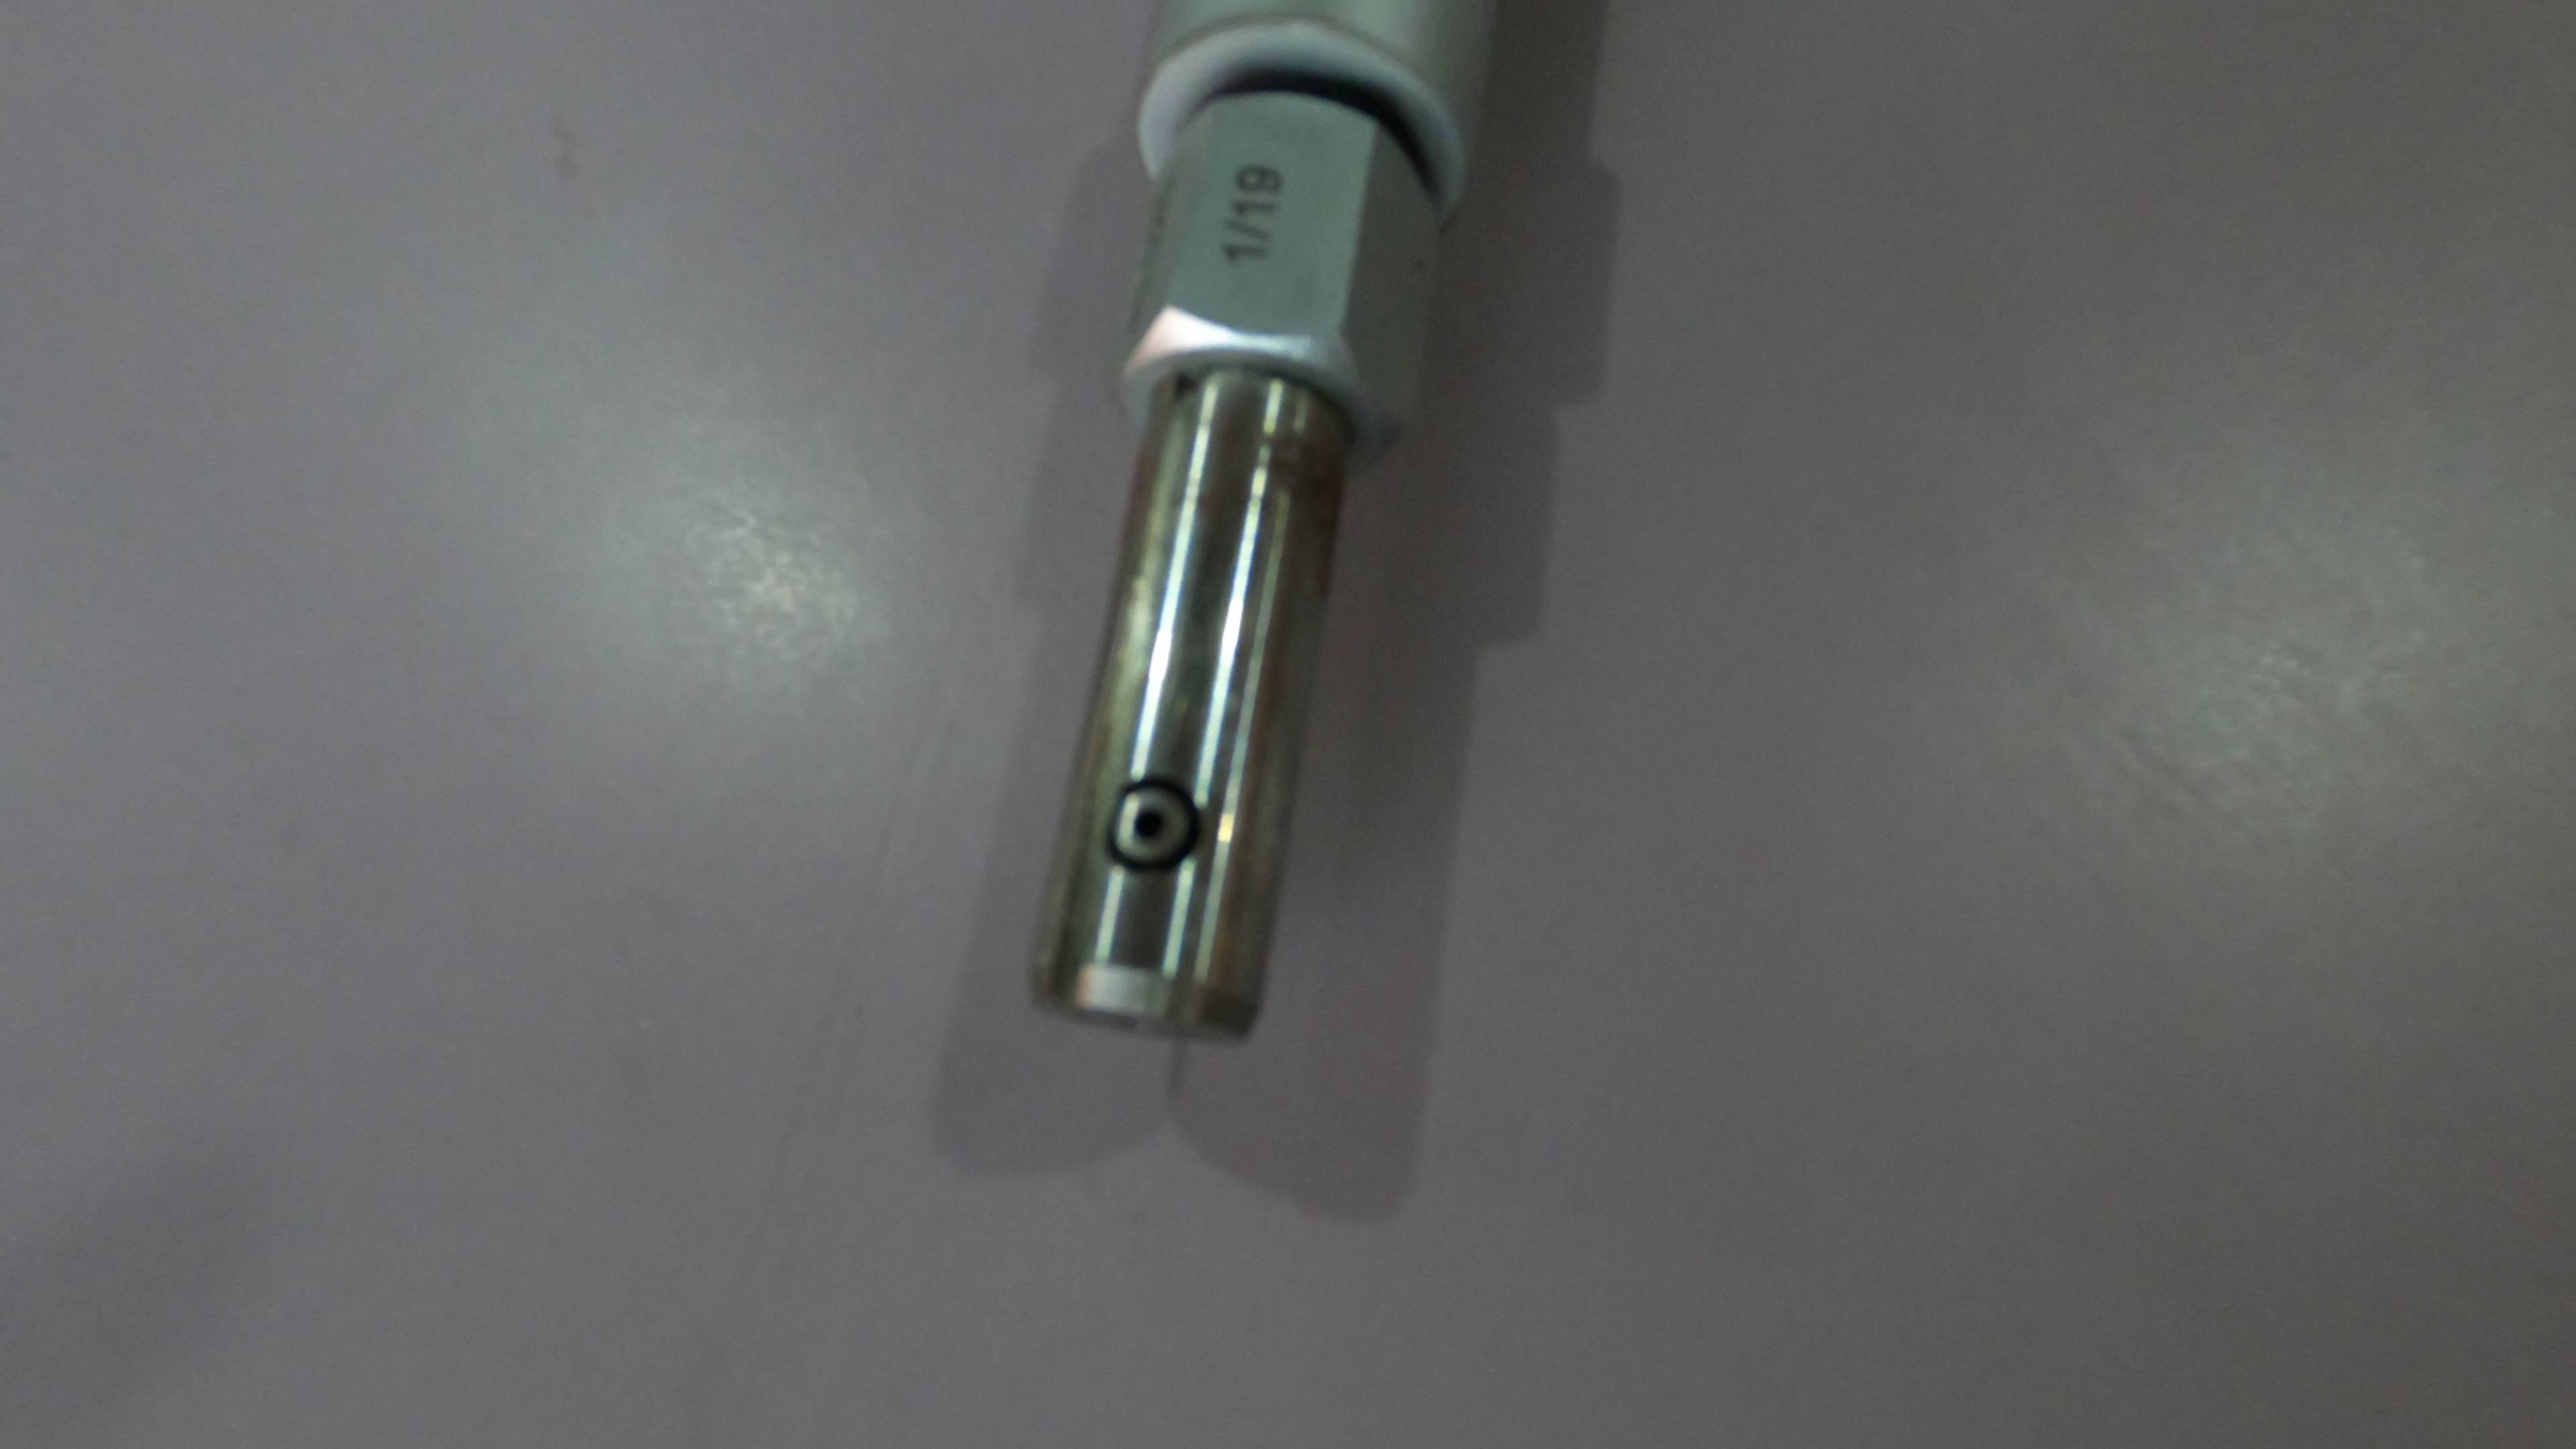air_gauge: (1014, 7, 1518, 1047)
